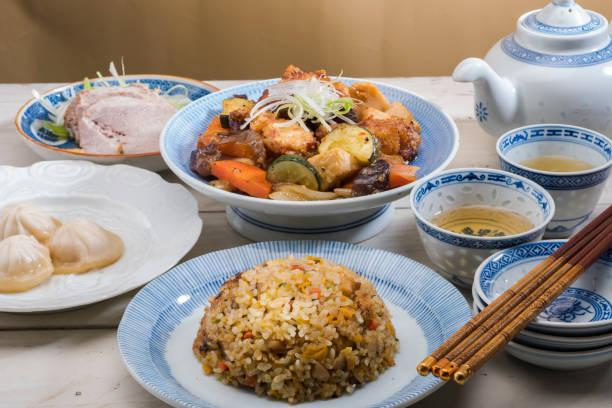Braised Crucian Carp: (114, 238, 478, 408), (160, 70, 457, 239), (1, 153, 201, 311)
